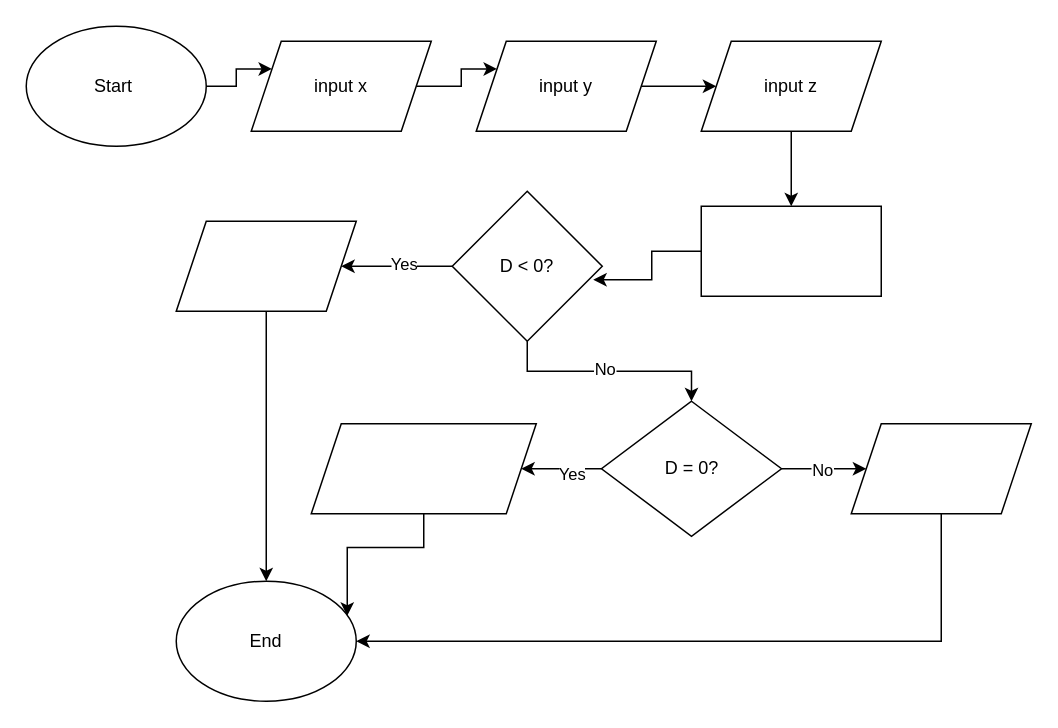
Image size: 1058x728. Some labels were removed from this diagram. Here are the shapes that lost their labels. From the top down, the centre of each, then its label:
[265,265]: akar KHAYALAN(imajiner)
[790,250]: D=y 2 - 4*x*z
[423,468]: akar real dan kembar
[940,468]: akar real dan berlainan
